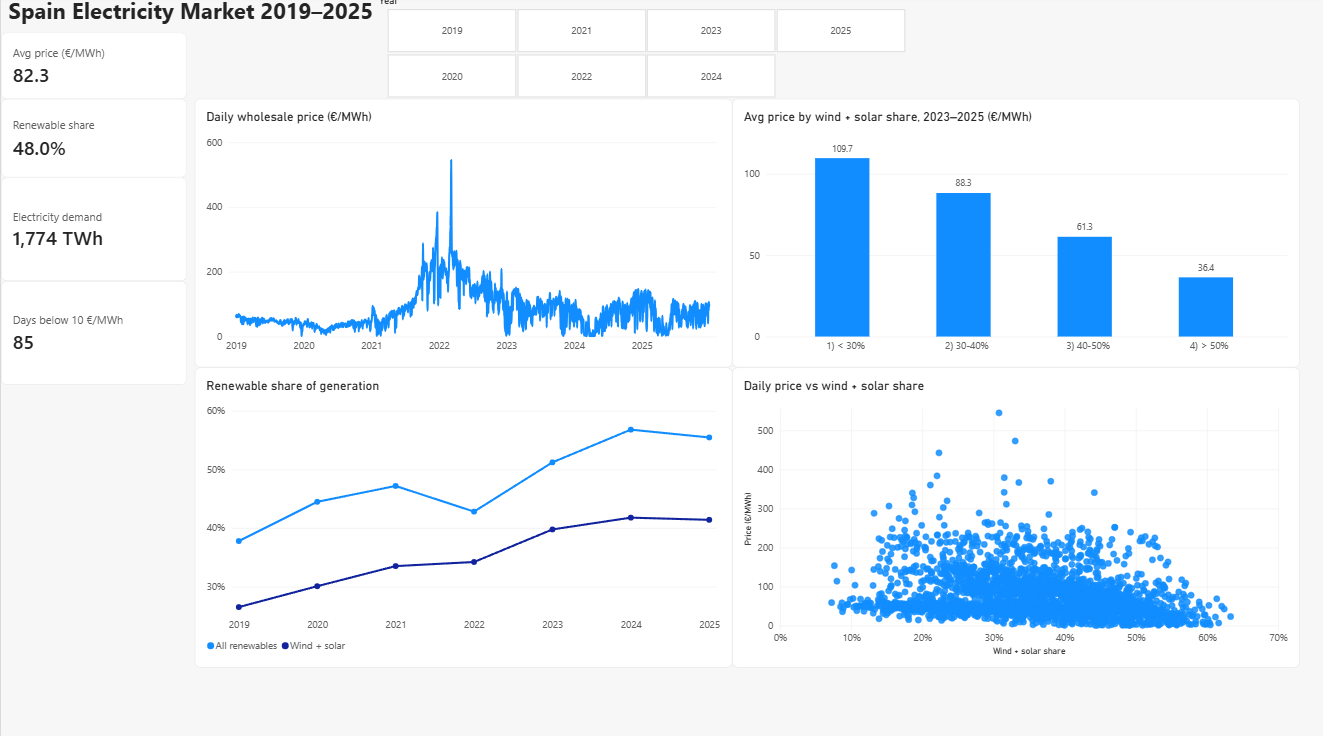

The dashboard page shown, as its layout file describes it:
{"tool":"powerbi","page":{"name":"1. sayfa","canvas":[1920,1080],"ordinal":0},"visuals":[{"type":"textbox","box":[10.3,0,539.3,53.5],"z":0},{"type":"cardVisual","fields":{"Data":["daily_clean.Avg Price"]},"box":[0,53.5,269.6,96.7],"z":1000},{"type":"cardVisual","fields":{"Data":["daily_clean.Renewable Share"]},"box":[0,150.2,269.6,114],"z":2000},{"type":"cardVisual","fields":{"Data":["daily_clean.Demand Label"]},"box":[0,263.5,269.6,150.3],"z":3000},{"type":"cardVisual","fields":{"Data":["daily_clean.Days Below 10"]},"box":[0,414.4,269.6,150.2],"z":4000},{"type":"slicer","fields":{"Values":["daily_clean.Year"]},"box":[550.1,0,788.3,150.3],"z":5000},{"type":"lineChart","title":"Renewable share of generation","fields":{"Category":["daily_clean.Year"],"Y":["daily_clean.Renewable Share","daily_clean.Wind Solar Share"]},"box":[280.5,539.3,778,434.3],"z":6000},{"type":"lineChart","title":"Daily wholesale price (€/MWh)","fields":{"Category":["daily_clean.date"],"Y":["daily_clean.Avg Price"]},"box":[280.5,150.2,778,389],"z":7000},{"type":"clusteredColumnChart","title":"Avg price by wind + solar share, 2023–2025 (€/MWh)","fields":{"Category":["daily_clean.Wind Solar Bucket"],"Y":["daily_clean.Avg Price"]},"box":[1058.7,150.2,821.6,389.1],"z":8000},{"type":"scatterChart","title":"Daily price vs wind + solar share","fields":{"Category":["daily_clean.date"],"X":["daily_clean.Wind Solar Share"],"Y":["Avg(daily_clean.price_eur_mwh)"]},"box":[1058.7,539.3,821.6,434.3],"z":9000}]}

Visuals, with their boxes in screenshot pixels (x1, y1, x2, y2), scaled from the page's 1920x1080 canvas onto the 1323x736 screenshot:
textbox: [7,0,379,36]
cardVisual - daily_clean.Avg Price: [0,36,186,102]
cardVisual - daily_clean.Renewable Share: [0,102,186,180]
cardVisual - daily_clean.Demand Label: [0,180,186,282]
cardVisual - daily_clean.Days Below 10: [0,282,186,385]
slicer - daily_clean.Year: [379,0,922,102]
"Renewable share of generation" lineChart: [193,368,729,663]
"Daily wholesale price (€/MWh)" lineChart: [193,102,729,367]
"Avg price by wind + solar share, 2023–2025 (€/MWh)" clusteredColumnChart: [730,102,1296,368]
"Daily price vs wind + solar share" scatterChart: [730,368,1296,663]
